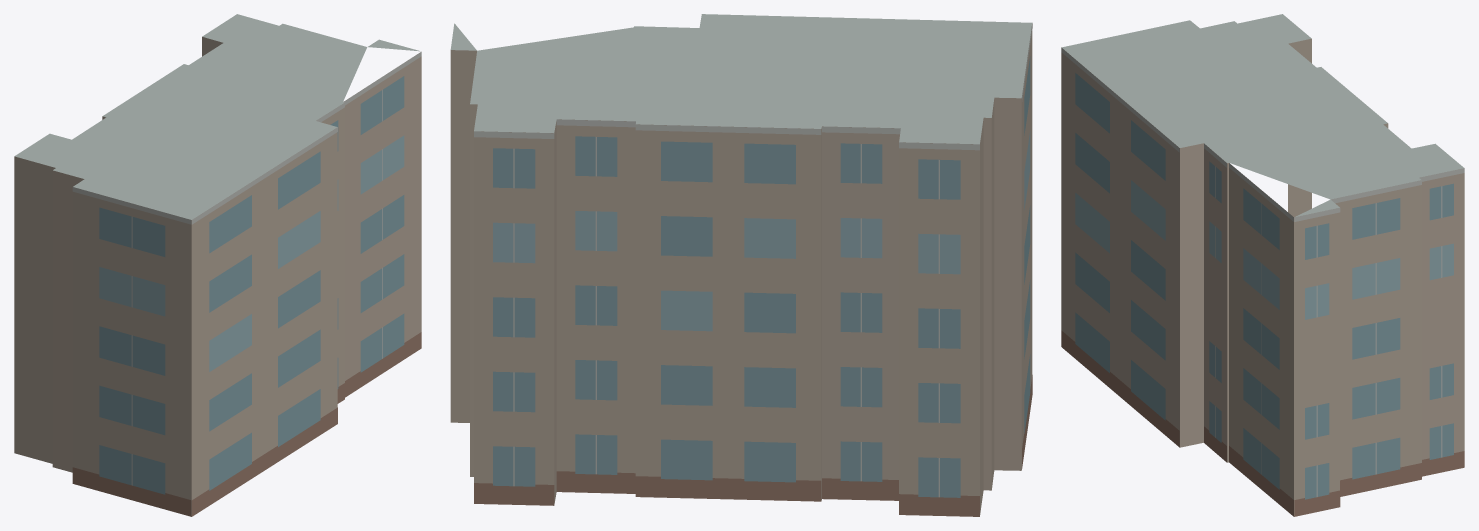
The model's file is survey-upis-33044264.glb.
The picture shows the model from 3 angles, left to right: view 1: azimuth 30°, elevation 25°; view 2: azimuth 150°, elevation 25°; view 3: azimuth 270°, elevation 25°; orthographic projection. The views are drawn at different scales.
Visible parts, largest first — view 1: survey-upis-33044264.tmp; view 2: survey-upis-33044264.tmp; view 3: survey-upis-33044264.tmp.
Boxes of the visible parts, x1,y1,x2,y2 form: survey-upis-33044264.tmp: (14, 14, 421, 516); survey-upis-33044264.tmp: (450, 14, 1032, 516); survey-upis-33044264.tmp: (1061, 14, 1464, 516).
Bounding box in the file's own units: 22.13 × 15.19 × 18.54.
